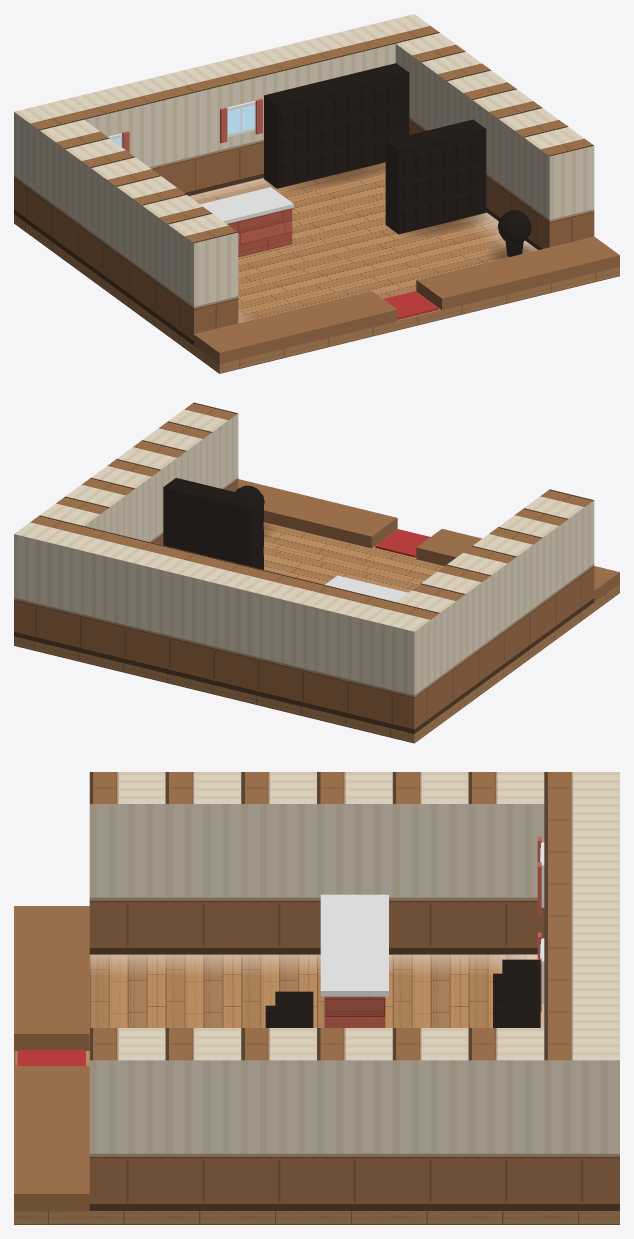
File: loja4.glb
3 views of the same model, one above another, from view 1: azimuth 30°, elevation 25°; view 2: azimuth 150°, elevation 25°; view 3: azimuth 270°, elevation 25° (orthographic). The views are drawn at different scales.
Parts seen in each view (by area): view 1: malha__semsombra (×36), malha__contorno (×3), mapa_loja4; view 2: malha__semsombra (×29), malha__contorno; view 3: malha__semsombra (×39), malha__contorno (×2), mapa_loja4.
Boxes of the visible parts, x1,y1,x2,y2 form: malha__semsombra (×36): (14,14,619,373); malha__contorno (×3): (264,63,531,243); mapa_loja4: (227,208,292,256); malha__semsombra (×29): (14,402,619,743); malha__contorno: (163,478,263,569); malha__semsombra (×39): (14,772,619,1224); malha__contorno (×2): (275,959,540,1027); mapa_loja4: (324,996,385,1027).
Size of the model in its own units: 9 by 2.4 by 8.
Materials: 24 (7 with a texture image).
